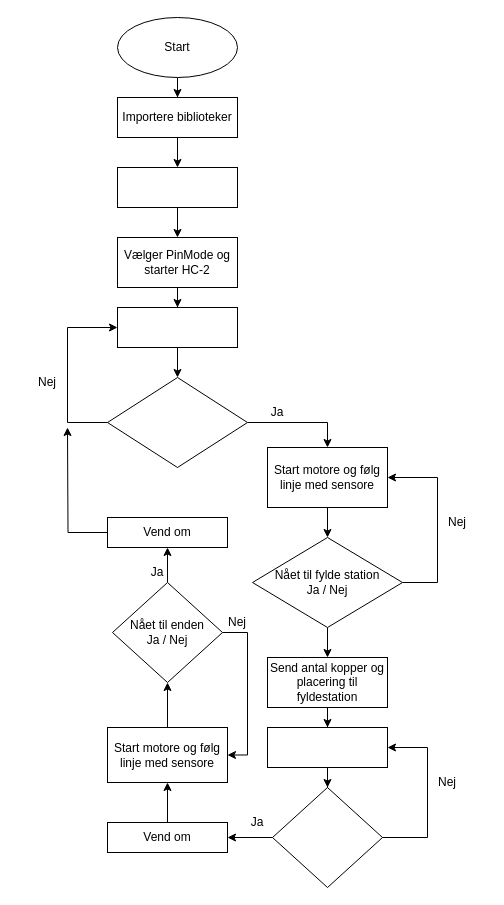
Image size: 504x905. Some labels were removed from this diagram. The shapes that lost their labels are listed below. From the top down, each one's centre as x and y in pixels, then its label:
At [177,187]: "Definere variabler".
At [177,327]: "Gemmer hvor kopperne står".
At [177,422]: "Knap trykket Ja / Nej".
At [327,747]: "Vent på svar fra fylde station".
At [327,837]: "Svar fra fylde station Ja / Nej".
